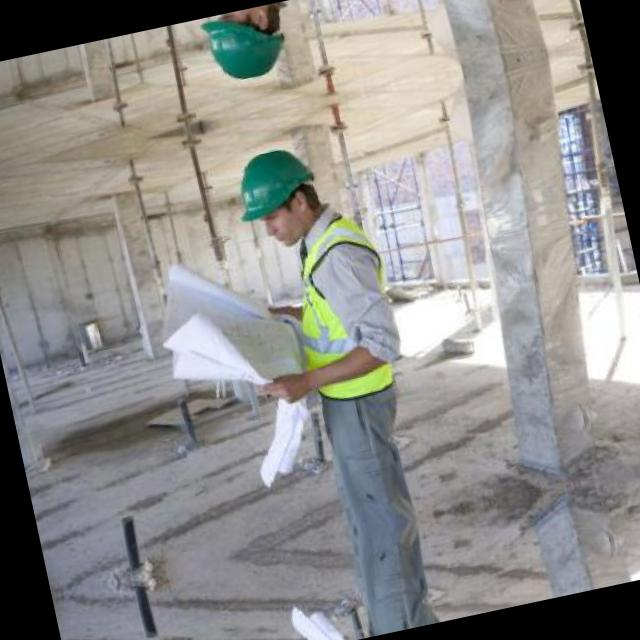helmet: (220, 128, 338, 259), (193, 0, 305, 101)
